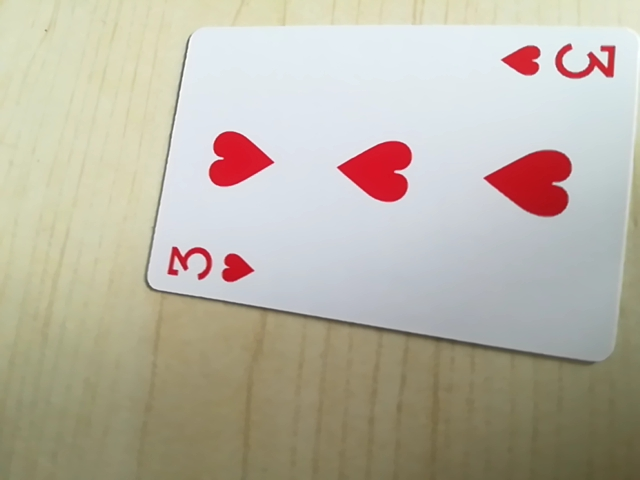hx 3: (499, 32, 622, 90), (161, 236, 264, 292)
